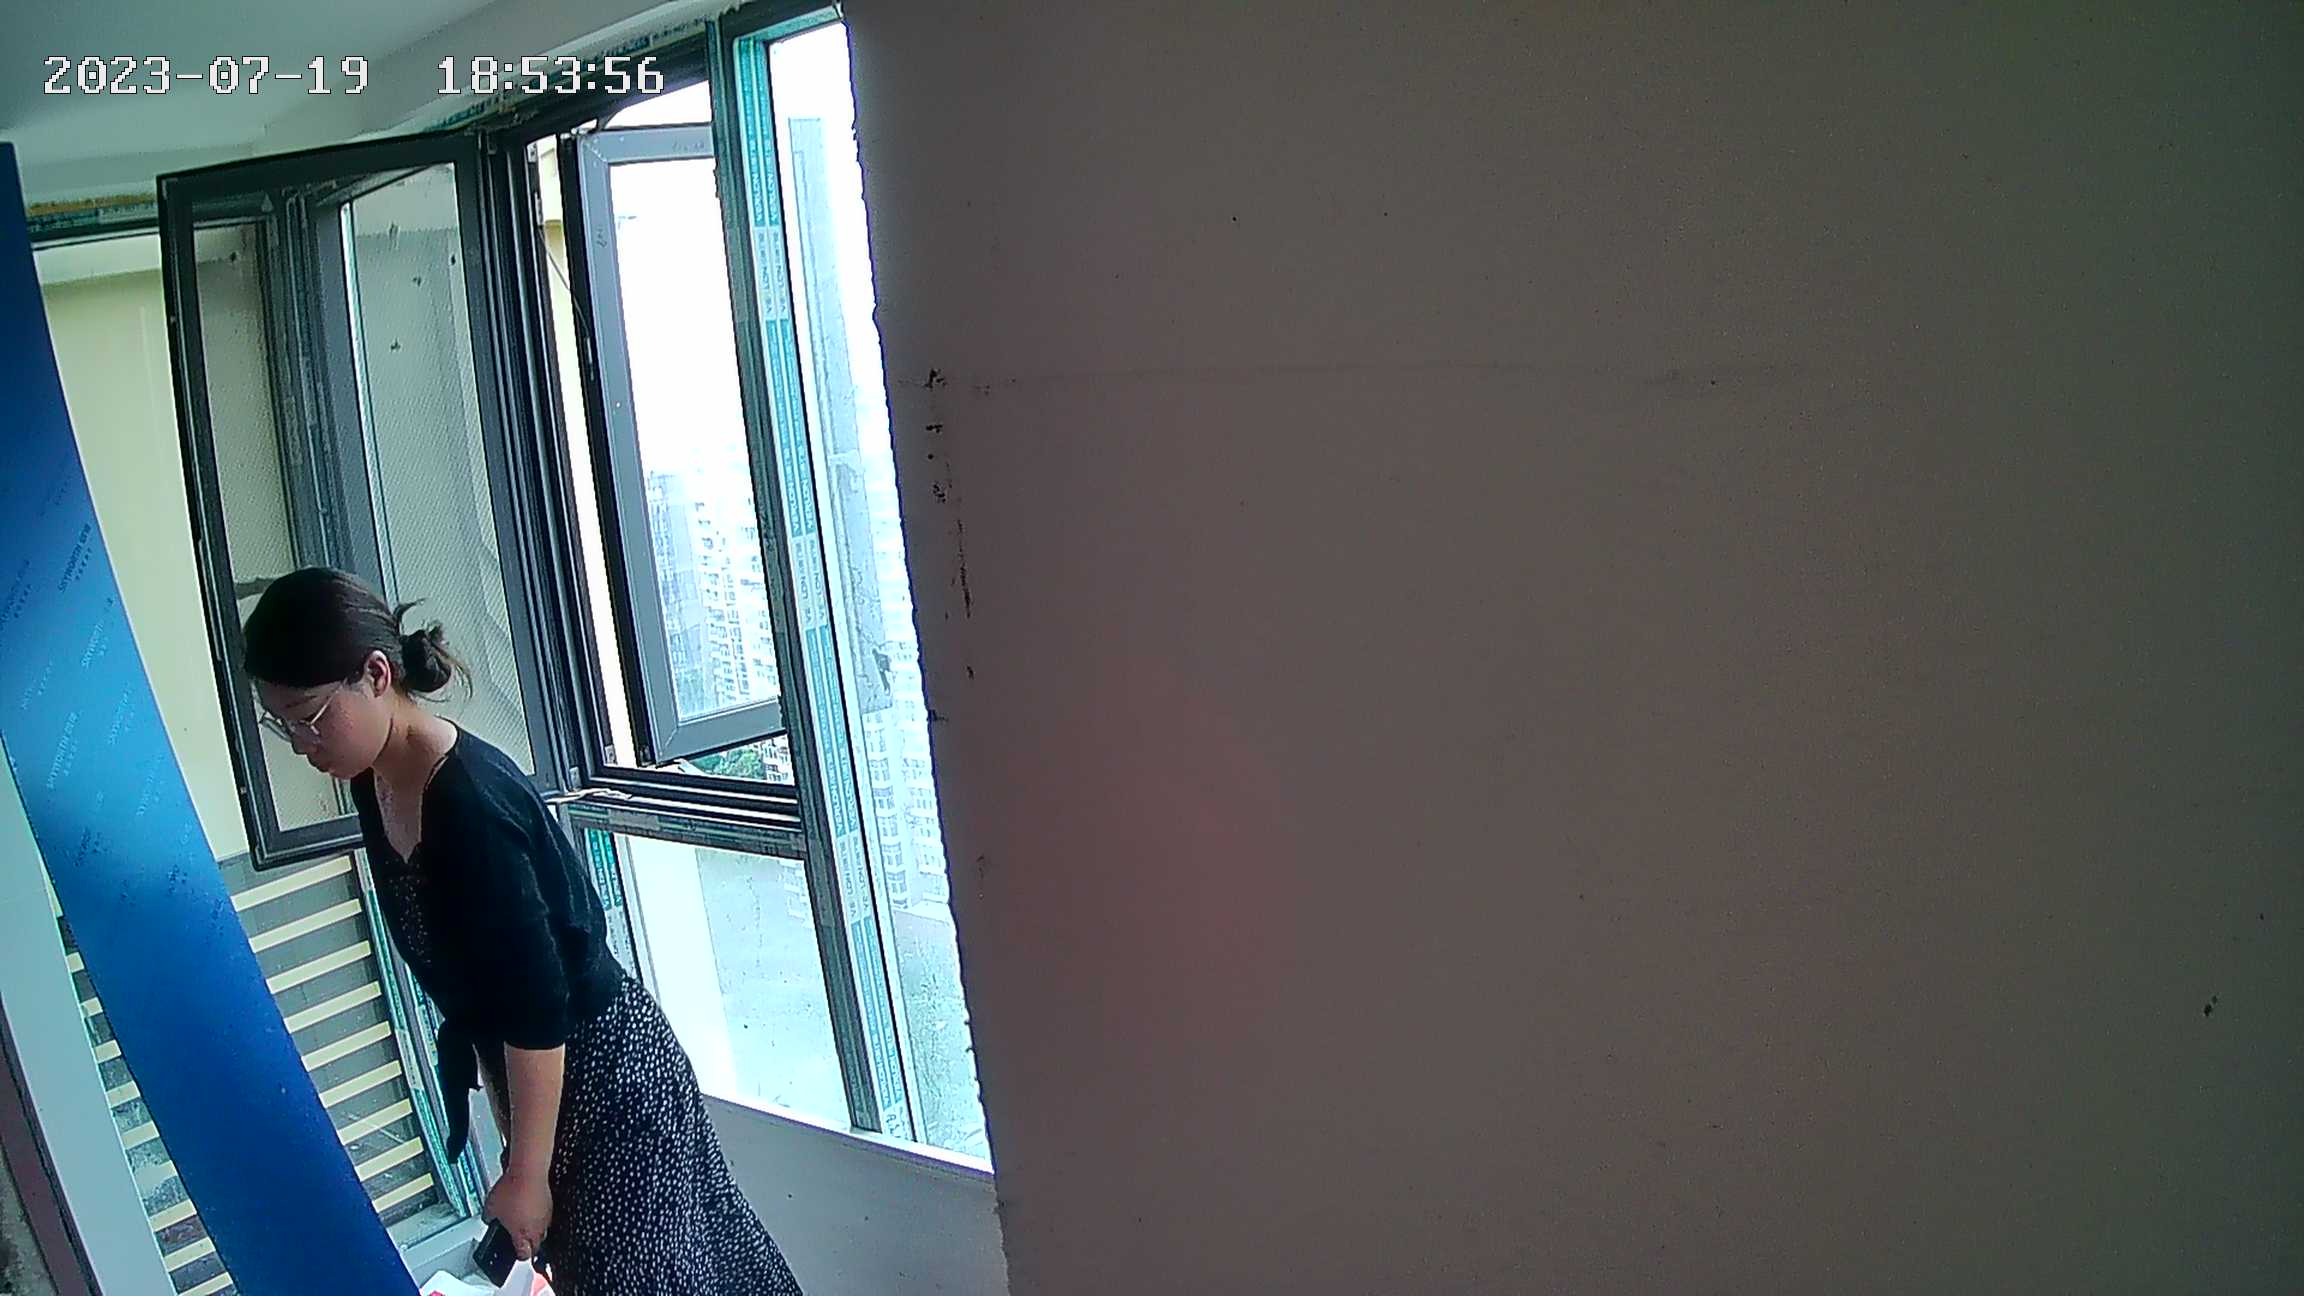people: (233, 566, 808, 1296)
window: (9, 50, 994, 1239)
